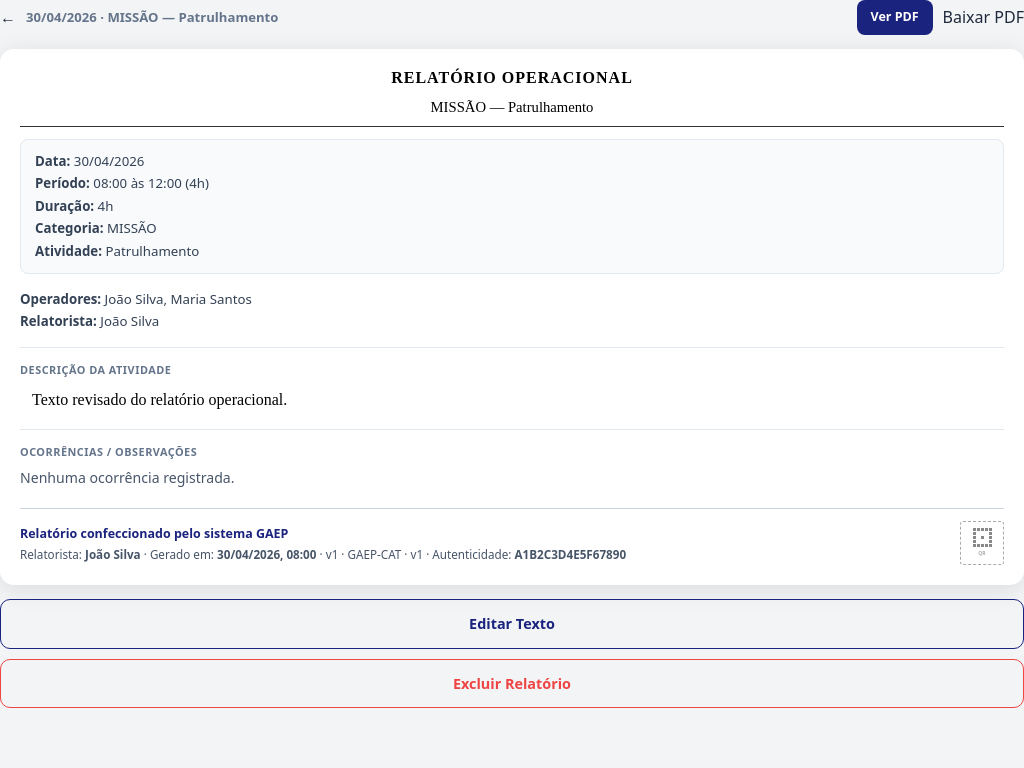
Scenario: RelatorioDetalheClient — vista de tela › exibe confirmação ao clicar em "Excluir Relatório"
What coordinates should you click on to do the following:
click the button "Excluir Relatório"
I would click on:
 (512, 683)
Its box is [0,659,1023,708].
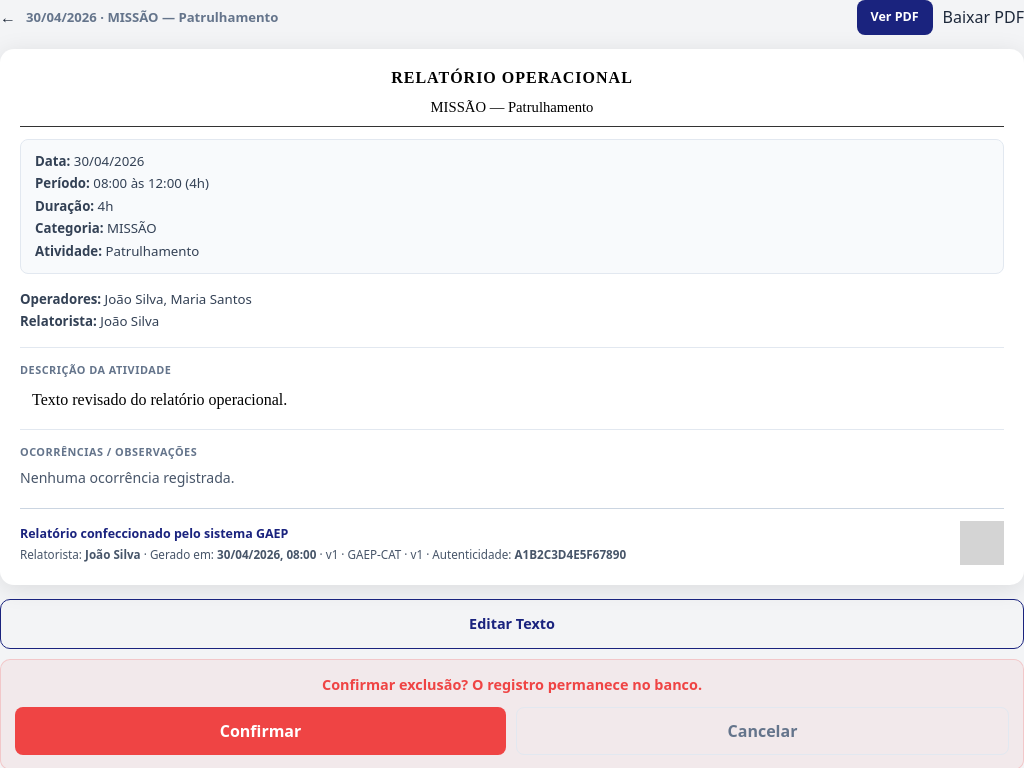
Expected: the text "Confirmar exclusão? O registro permanece no banco." is shown, [322,675,702,694]
